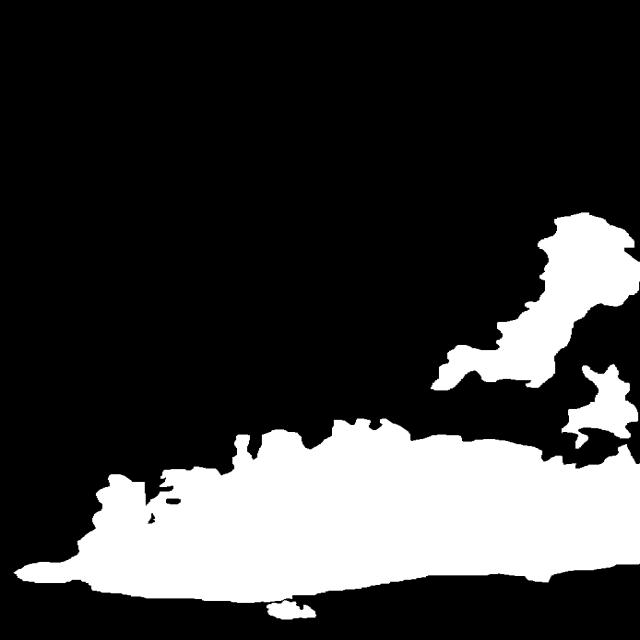fire: (64, 222, 640, 638)
